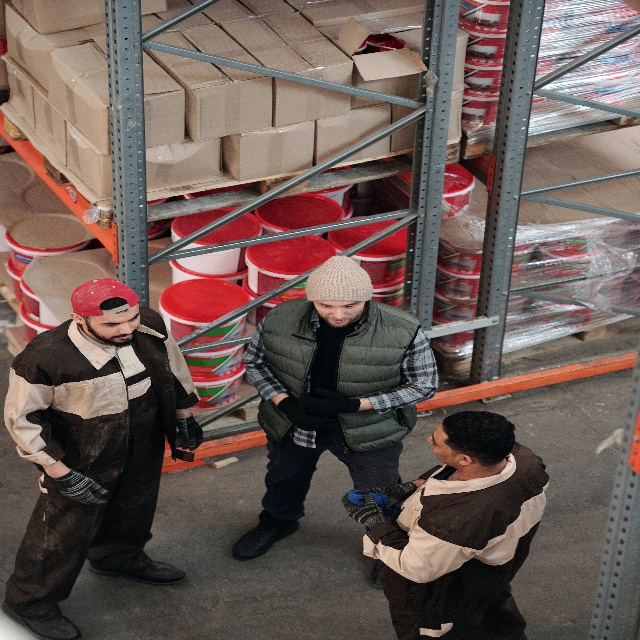Guantes: (50, 467, 110, 508), (341, 487, 387, 529), (358, 479, 417, 511), (276, 396, 328, 431), (298, 387, 361, 415), (173, 411, 203, 451)
